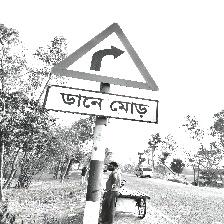Right-turn: (44, 24, 161, 126)
